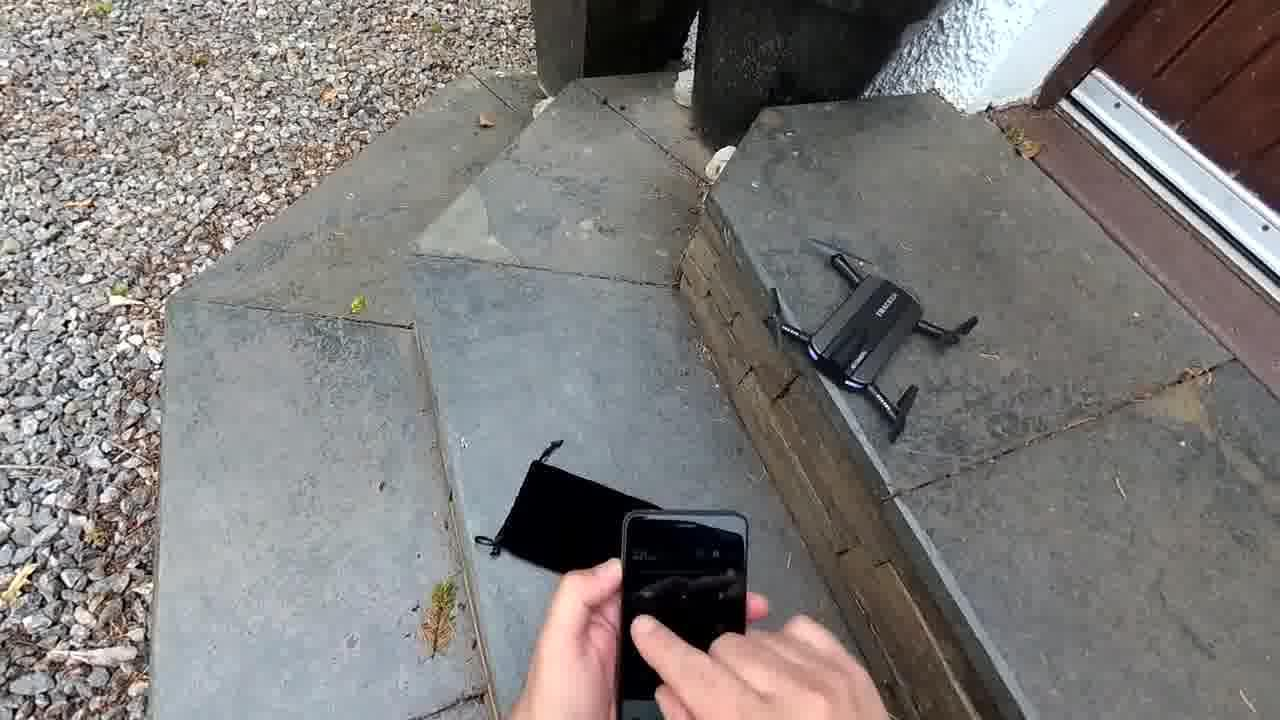drone: (748, 229, 998, 460)
